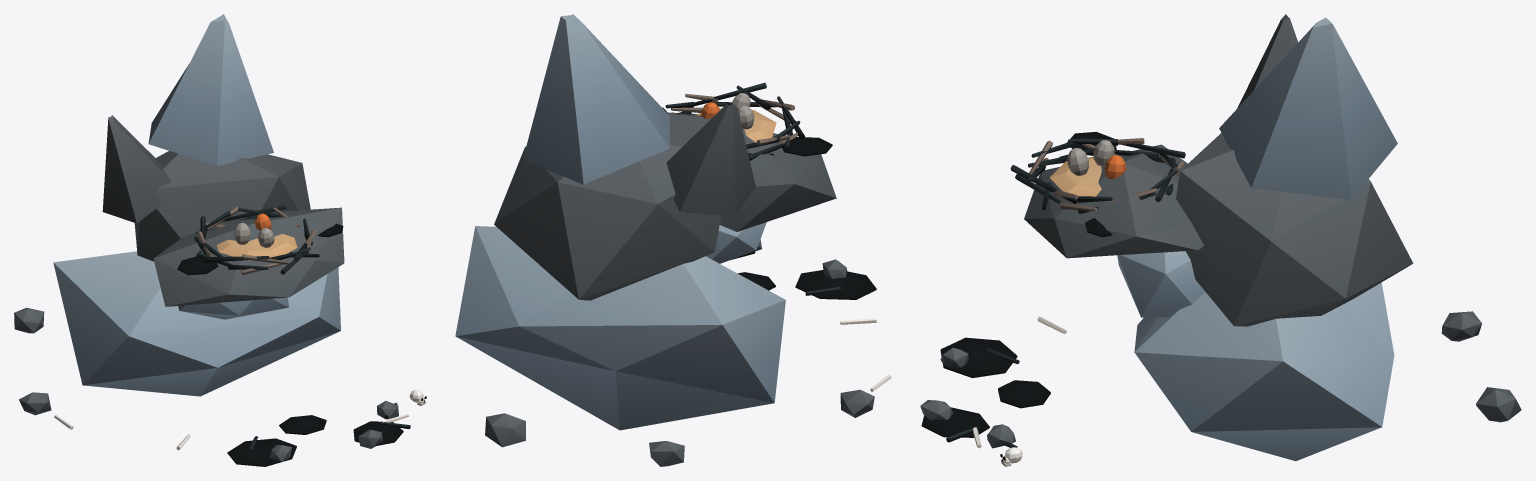
Rendered from drake_ledge.glb.
The picture shows the model from 3 angles, left to right: view 1: azimuth 30°, elevation 25°; view 2: azimuth 150°, elevation 25°; view 3: azimuth 270°, elevation 25°; orthographic projection. The views are drawn at different scales.
Parts seen in each view (by area): view 1: drake_ledge; view 2: drake_ledge; view 3: drake_ledge.
Part boxes in pixels (bbox=[...]): drake_ledge: bbox=[14, 14, 426, 466]; drake_ledge: bbox=[455, 14, 891, 466]; drake_ledge: bbox=[920, 14, 1521, 466].
Bounding box in the file's own units: 8.44 × 8.85 × 10.48.
Materials: 1 (1 with a texture image).
